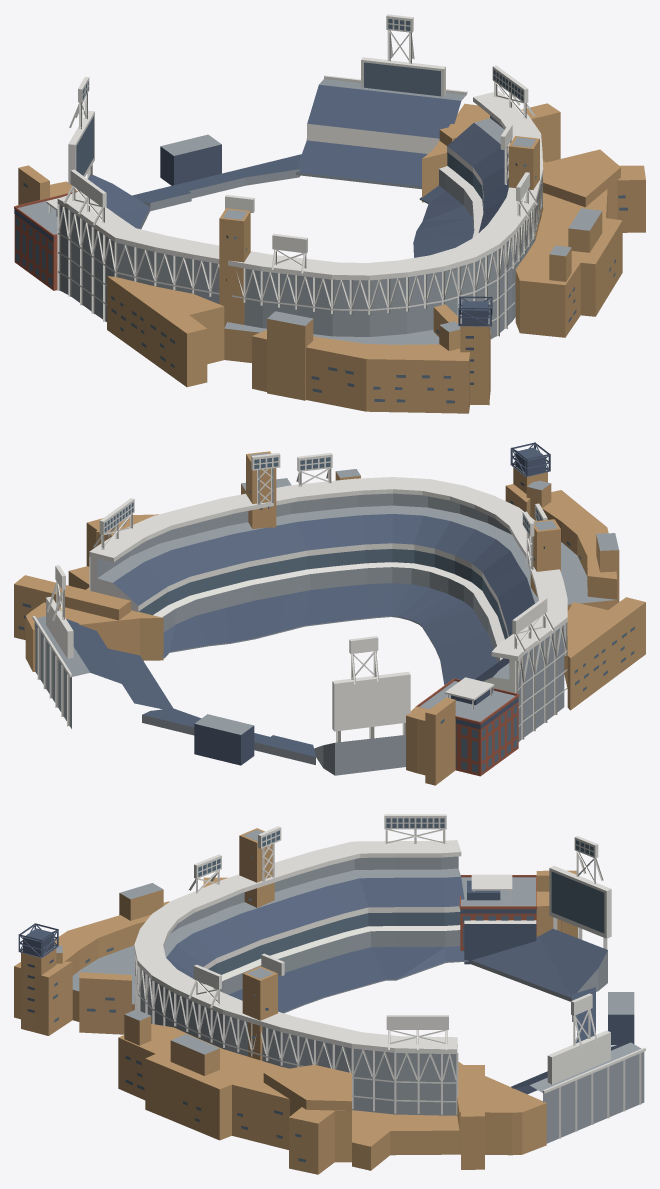
Rendered from sd-petco-park.glb.
The picture shows the model from 3 angles, top to bottom: view 1: azimuth 30°, elevation 25°; view 2: azimuth 150°, elevation 25°; view 3: azimuth 270°, elevation 25°; orthographic projection. The views are drawn at different scales.
Parts seen in each view (by area): view 1: Petco Park; view 2: Petco Park; view 3: Petco Park.
Boxes of the visible parts, x1,y1,x2,y2 form: Petco Park: (14, 14, 645, 413); Petco Park: (14, 442, 645, 785); Petco Park: (14, 814, 645, 1174).
Bounding box in the file's own units: 243 × 64.6 × 264.
